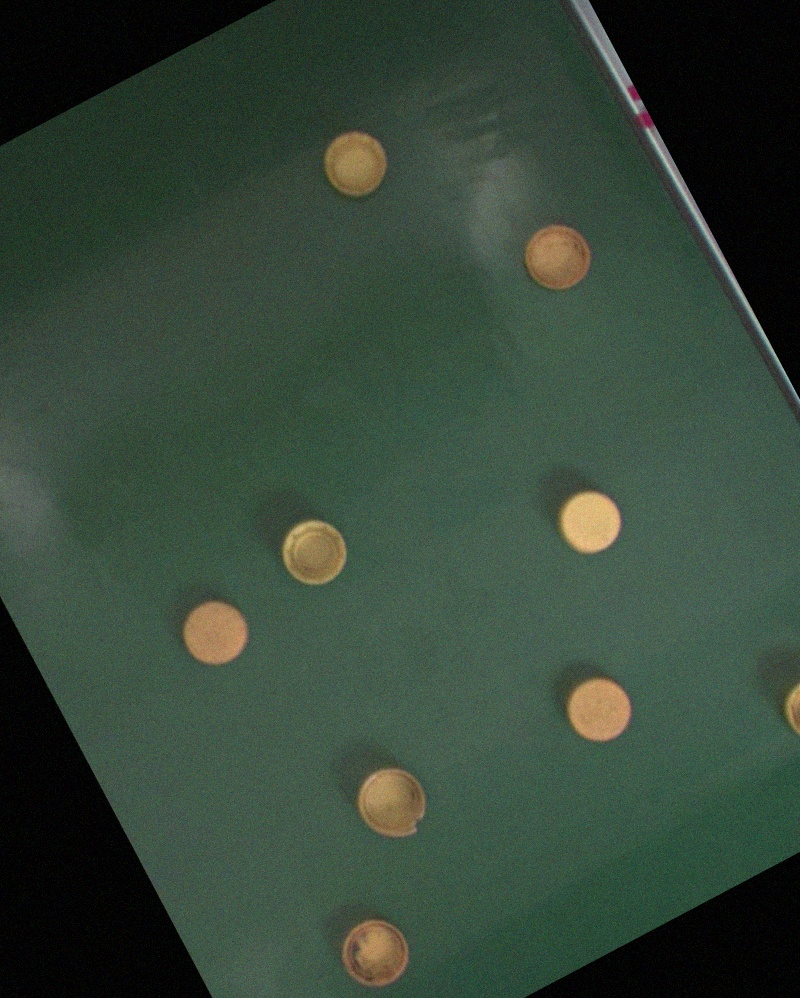Others: (347, 756, 440, 852), (553, 665, 644, 757), (330, 907, 421, 998), (311, 118, 401, 207), (270, 508, 359, 597), (514, 212, 603, 301), (172, 589, 260, 677), (548, 481, 634, 566)
